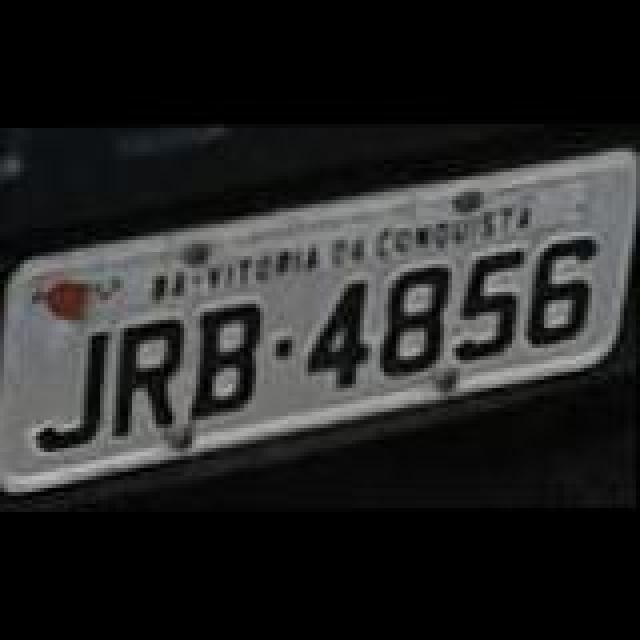4: (294, 266, 374, 394)
5: (450, 250, 530, 362)
6: (518, 232, 598, 352)
8: (378, 256, 450, 380)
B: (192, 296, 268, 420)
J: (30, 320, 110, 456)
R: (124, 306, 192, 446)
